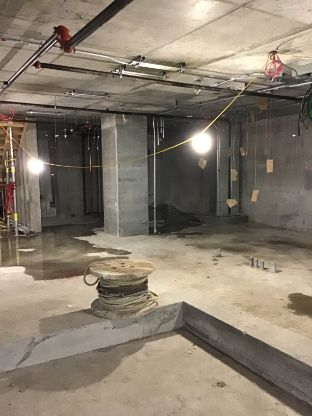Duct: (198, 112, 246, 224)
